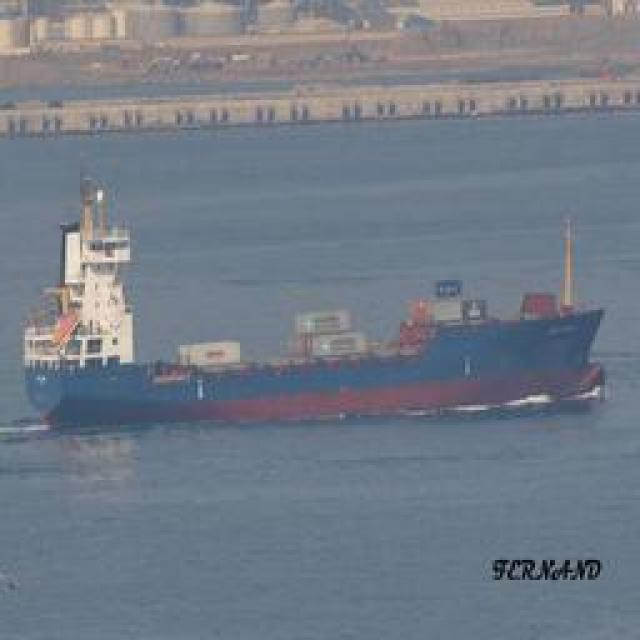ship2: (22, 176, 605, 432)
